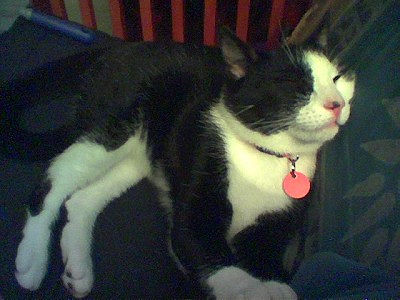cat: (1, 20, 356, 300)
